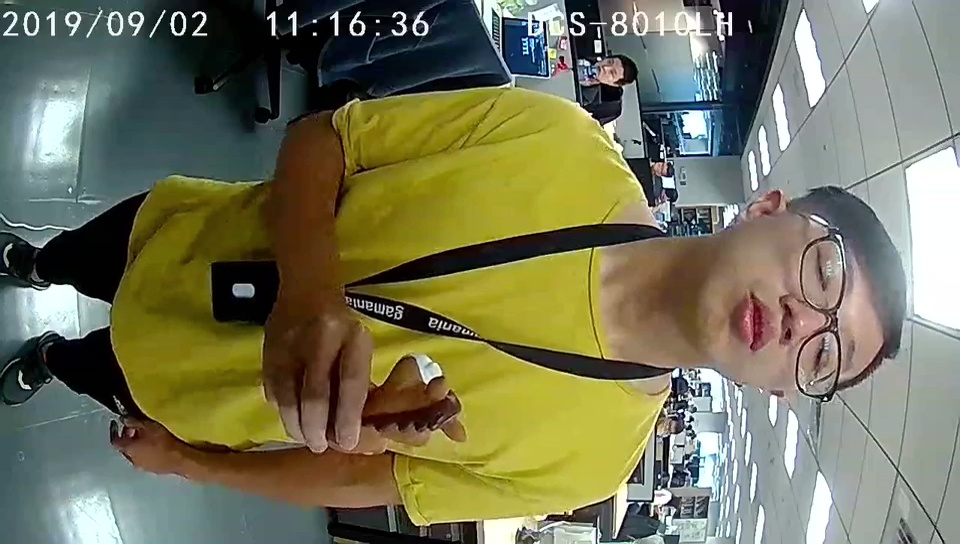horse: (364, 353, 465, 452)
